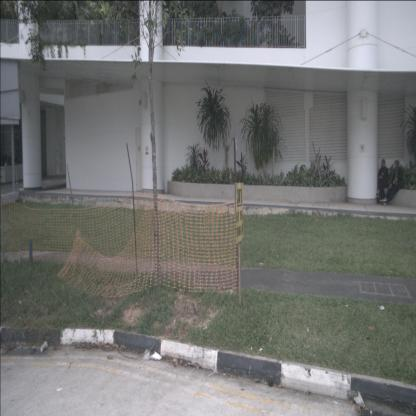human-pedestrian-adult: (380, 159, 404, 205), (376, 159, 389, 203)
